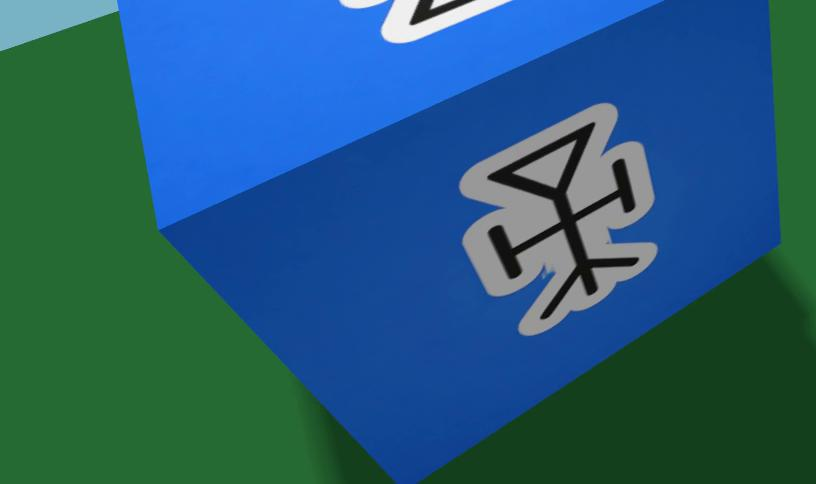KFS_REAL: (118, 0, 778, 481), (460, 103, 657, 335), (381, 0, 513, 42), (340, 0, 384, 7)
